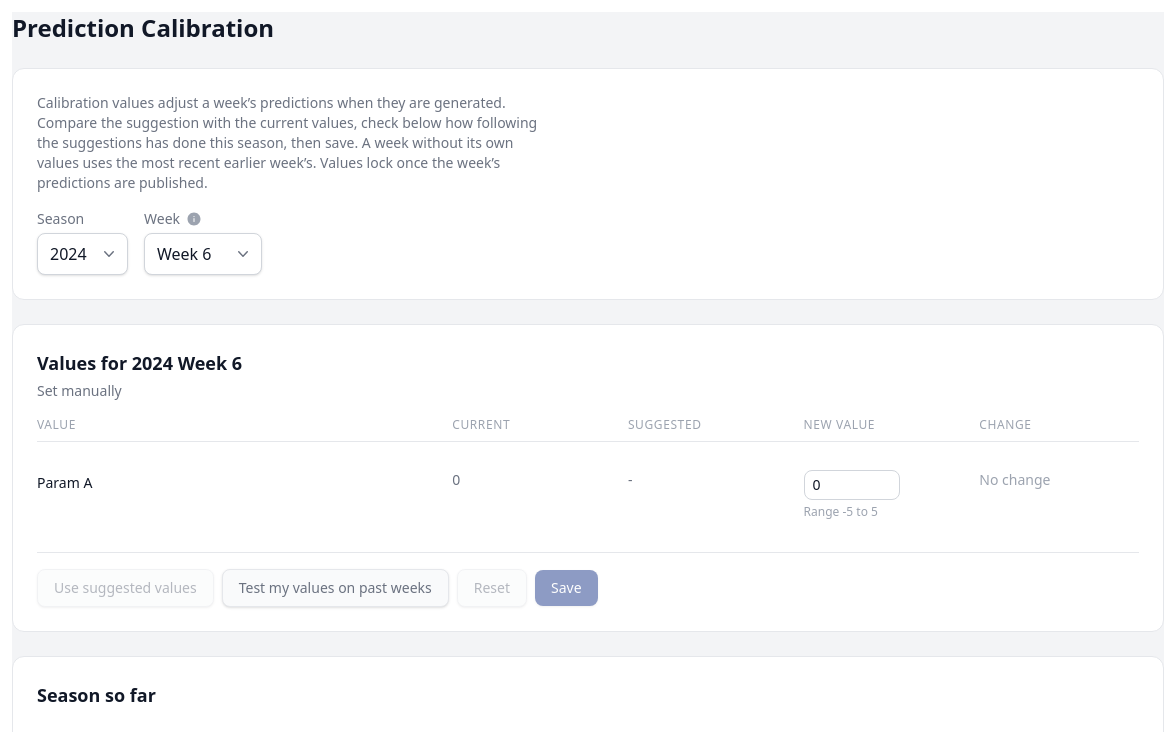
Test: CalibrationPage › switches to the week chosen in the selector
The width and height of the screenshot is (1164, 732).
Select "Week 10" in the dropdown labelled "Week" at coordinates (203, 254), box [144,233,262,275]
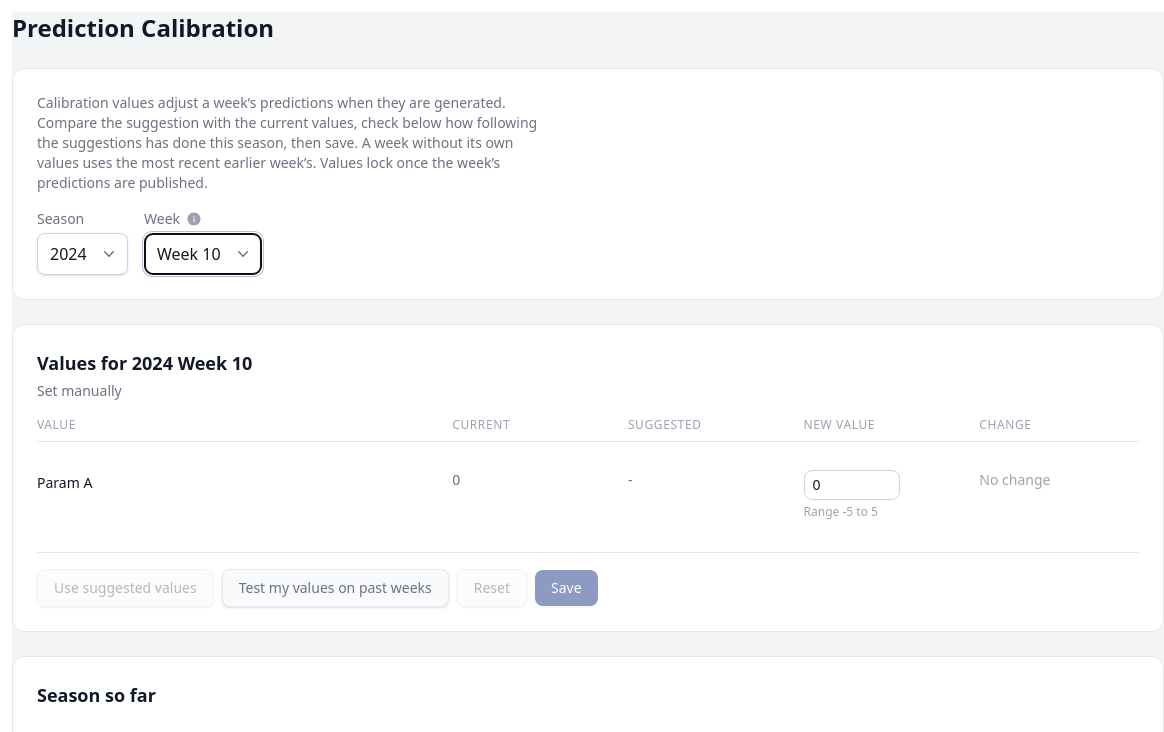
Check: the heading "Values for 2024 Week 10" is shown, box [37,351,252,375]
